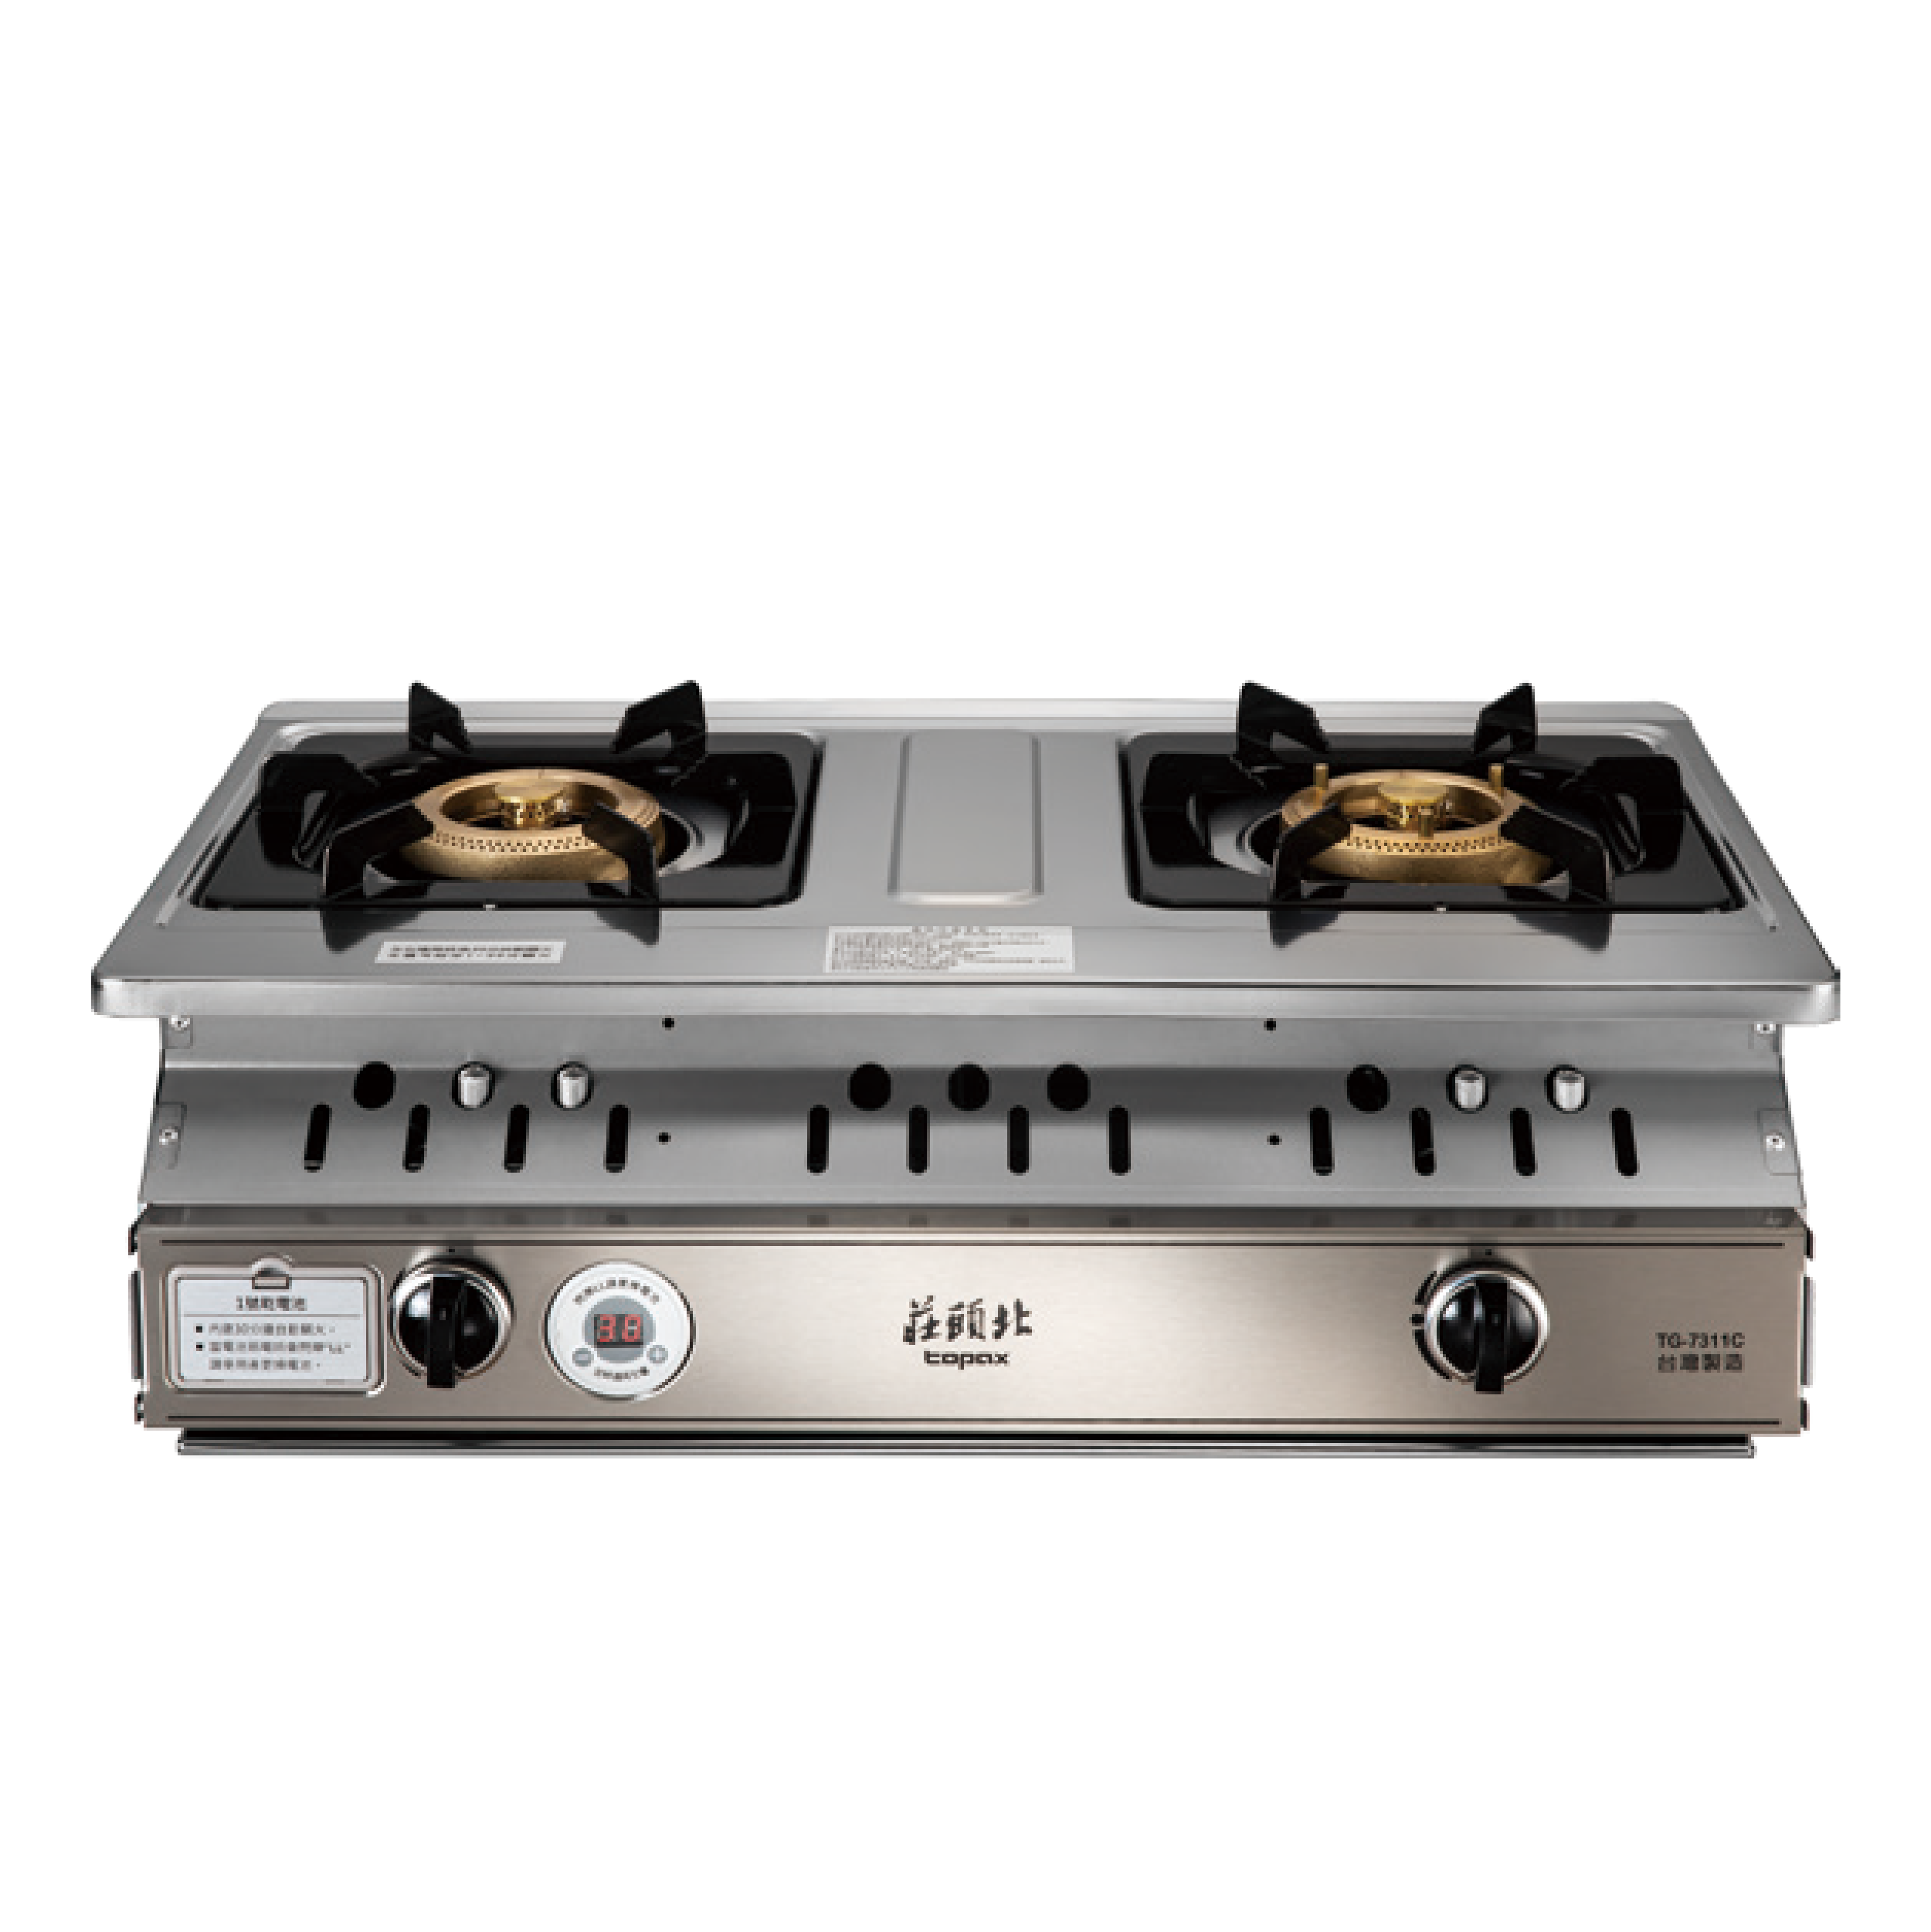gasoven: (92, 656, 1825, 1497)
